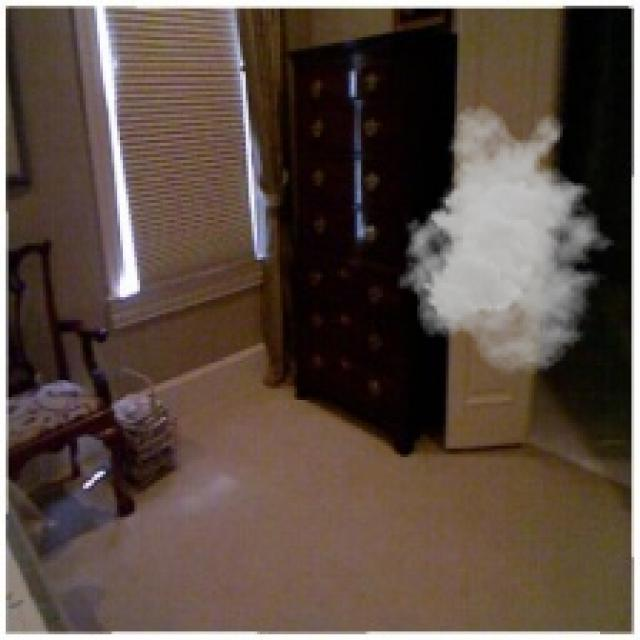smoke: (397, 103, 626, 374)
